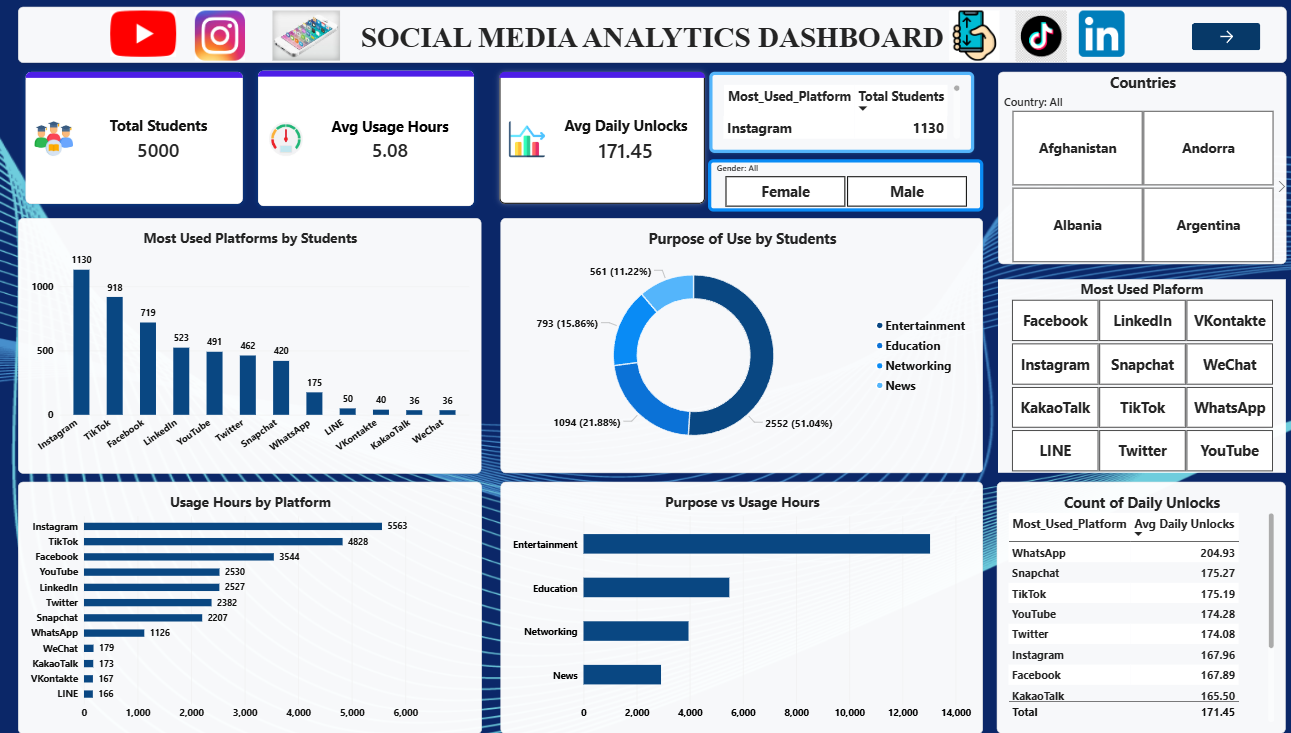

The dashboard page shown, as its layout file describes it:
{"tool":"powerbi","page":{"name":"Social Media Analysis","canvas":[1920,1080],"ordinal":1},"visuals":[{"type":"textbox","box":[10.9,0,213.5,182.8],"z":0},{"type":"textbox","box":[36.7,12.8,1861.8,82.5],"z":1000},{"type":"textbox","box":[10.9,747.4,278.7,112.2],"z":2000},{"type":"cardVisual","fields":{"Data":["Student Social Media And Mental Health Impact.Avg Usage Hours"]},"box":[377.9,95.4,339.3,221.9],"z":3000},{"type":"cardVisual","fields":{"Data":["Student Social Media And Mental Health Impact.Avg Daily Unlocks"]},"box":[731.9,97.2,324.7,216.4],"z":4000},{"type":"tableEx","fields":{"Values":["Student Social Media And Mental Health Impact.Most_Used_Platform","Student Social Media And Mental Health Impact.Total Students"]},"box":[1051,108.2,388.9,119.2],"z":5000},{"type":"cardVisual","fields":{"Data":["Student Social Media And Mental Health Impact.Total Students"]},"box":[36.7,97.2,341.2,216.4],"z":6000},{"type":"donutChart","title":"Purpose of Use by Students","fields":{"Category":["Student Social Media And Mental Health Impact.Purpose_Of_Use"],"Y":["Student Social Media And Mental Health Impact.Total Students"]},"box":[744.7,322.8,708,374.2],"z":7000},{"type":"columnChart","title":"Most Used Platforms by Students","fields":{"Category":["Student Social Media And Mental Health Impact.Most_Used_Platform"],"Y":["Student Social Media And Mental Health Impact.Total Students"]},"box":[37.5,323.4,679.7,375],"z":8000},{"type":"clusteredBarChart","title":"Usage Hours by Platform","fields":{"Category":["Student Social Media And Mental Health Impact.Most_Used_Platform"],"Y":["Sum(Student Social Media And Mental Health Impact.Avg_Daily_Usage_Hours)"]},"box":[36.7,709.9,680.5,370.5],"z":9000},{"type":"tableEx","title":"Count of Daily Unlocks","fields":{"Values":["Student Social Media And Mental Health Impact.Most_Used_Platform","Student Social Media And Mental Health Impact.Avg Daily Unlocks"]},"box":[1472.6,710.2,424.3,369.8],"z":10000},{"type":"clusteredBarChart","title":"Purpose vs Usage Hours","fields":{"Category":["Student Social Media And Mental Health Impact.Purpose_Of_Use"],"Y":["Sum(Student Social Media And Mental Health Impact.Avg_Daily_Usage_Hours)"]},"box":[744.7,709.9,708,370.5],"z":11000},{"type":"slicer","title":"Countries","fields":{"Values":["Student Social Media And Mental Health Impact.Country"]},"box":[1474.9,108.6,423.5,282.3],"z":12000},{"type":"slicer","fields":{"Values":["Student Social Media And Mental Health Impact.Gender"]},"box":[1048.3,236,403.9,77.1],"z":13000},{"type":"image","box":[335.7,18.3,247.6,73.4],"z":14000},{"type":"image","box":[1384.9,18.3,110.1,73.4],"z":15000},{"type":"image","box":[289.8,18.3,86.2,73.4],"z":16000},{"type":"image","box":[1388.5,18.3,299,75.2],"z":17000},{"type":"image","box":[150.4,18.3,139.4,67.9],"z":18000},{"type":"image","box":[1494.9,18.3,264.1,67.9],"z":19000},{"type":"slicer","title":"Most Used Plaform","fields":{"Values":["Student Social Media And Mental Health Impact.Most_Used_Platform"]},"box":[1474.9,413,422,283.6],"z":20000},{"type":"actionButton","box":[1759,36.7,100.9,40.4],"z":21000}]}

Visuals, with their boxes in screenshot pixels (x1, y1, x2, y2), scaled from the page's 1920x1080 canvas onto the 1291x733 screenshot:
textbox: pyautogui.locateOnScreen(7, 0, 151, 124)
textbox: pyautogui.locateOnScreen(25, 9, 1277, 65)
textbox: pyautogui.locateOnScreen(7, 507, 195, 583)
cardVisual - Student Social Media And Mental Health Impact.Avg Usage Hours: pyautogui.locateOnScreen(254, 65, 482, 215)
cardVisual - Student Social Media And Mental Health Impact.Avg Daily Unlocks: pyautogui.locateOnScreen(492, 66, 710, 213)
tableEx - Student Social Media And Mental Health Impact.Most_Used_Platform x Student Social Media And Mental Health Impact.Total Students: pyautogui.locateOnScreen(707, 73, 968, 154)
cardVisual - Student Social Media And Mental Health Impact.Total Students: pyautogui.locateOnScreen(25, 66, 254, 213)
"Purpose of Use by Students" donutChart: pyautogui.locateOnScreen(501, 219, 977, 473)
"Most Used Platforms by Students" columnChart: pyautogui.locateOnScreen(25, 219, 482, 474)
"Usage Hours by Platform" clusteredBarChart: pyautogui.locateOnScreen(25, 482, 482, 732)
"Count of Daily Unlocks" tableEx: pyautogui.locateOnScreen(990, 482, 1275, 732)
"Purpose vs Usage Hours" clusteredBarChart: pyautogui.locateOnScreen(501, 482, 977, 732)
"Countries" slicer: pyautogui.locateOnScreen(992, 74, 1276, 265)
slicer - Student Social Media And Mental Health Impact.Gender: pyautogui.locateOnScreen(705, 160, 976, 213)
image: pyautogui.locateOnScreen(226, 12, 392, 62)
image: pyautogui.locateOnScreen(931, 12, 1005, 62)
image: pyautogui.locateOnScreen(195, 12, 253, 62)
image: pyautogui.locateOnScreen(934, 12, 1135, 63)
image: pyautogui.locateOnScreen(101, 12, 195, 59)
image: pyautogui.locateOnScreen(1005, 12, 1183, 59)
"Most Used Plaform" slicer: pyautogui.locateOnScreen(992, 280, 1275, 473)
actionButton: pyautogui.locateOnScreen(1183, 25, 1251, 52)
